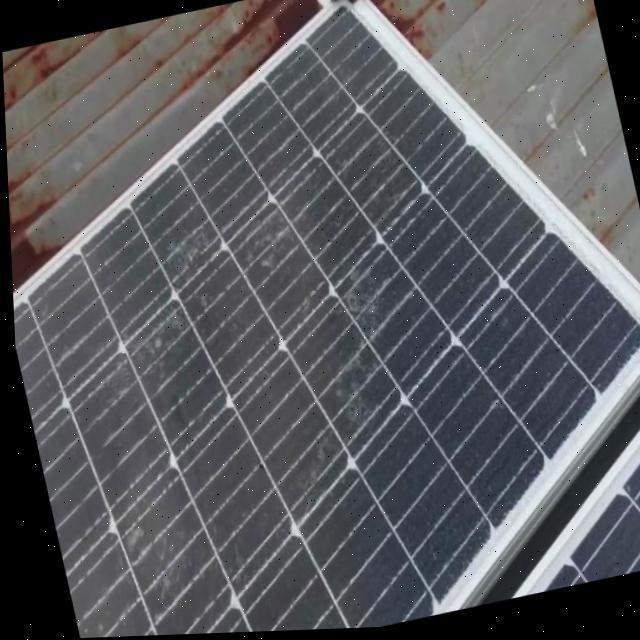Normal Solar Panel: (478, 430, 640, 602)
